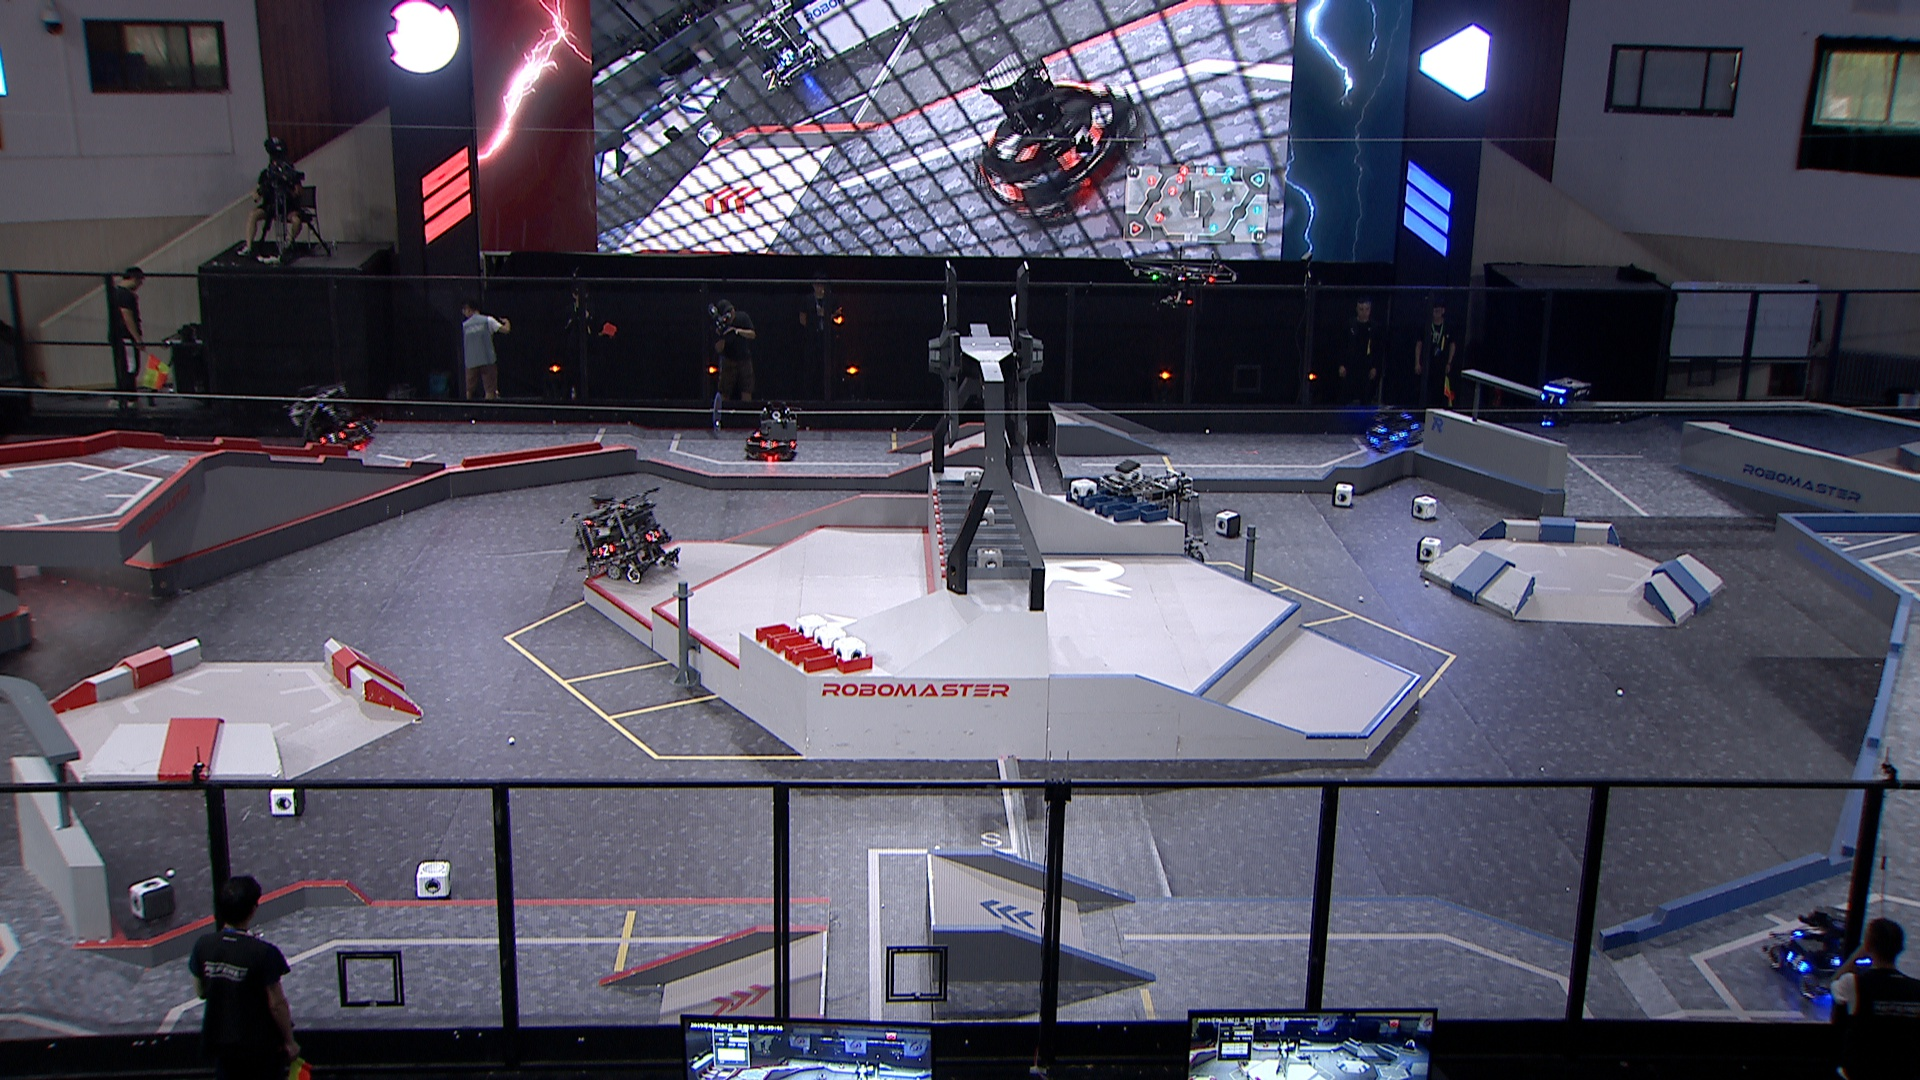armor: (1789, 916, 1821, 939), (1784, 949, 1811, 975), (316, 427, 347, 444), (1539, 390, 1564, 407), (353, 418, 375, 438), (756, 436, 779, 452), (1389, 425, 1408, 443), (1371, 419, 1390, 436), (595, 541, 615, 556), (344, 417, 365, 431), (642, 527, 661, 542)
car: (1760, 895, 1898, 1002), (1091, 462, 1212, 572), (568, 488, 688, 585), (282, 380, 385, 458), (1362, 396, 1437, 458), (742, 418, 800, 465)
ignore: (971, 49, 1139, 225), (740, 7, 825, 83)
watcher: (1532, 368, 1593, 431)
